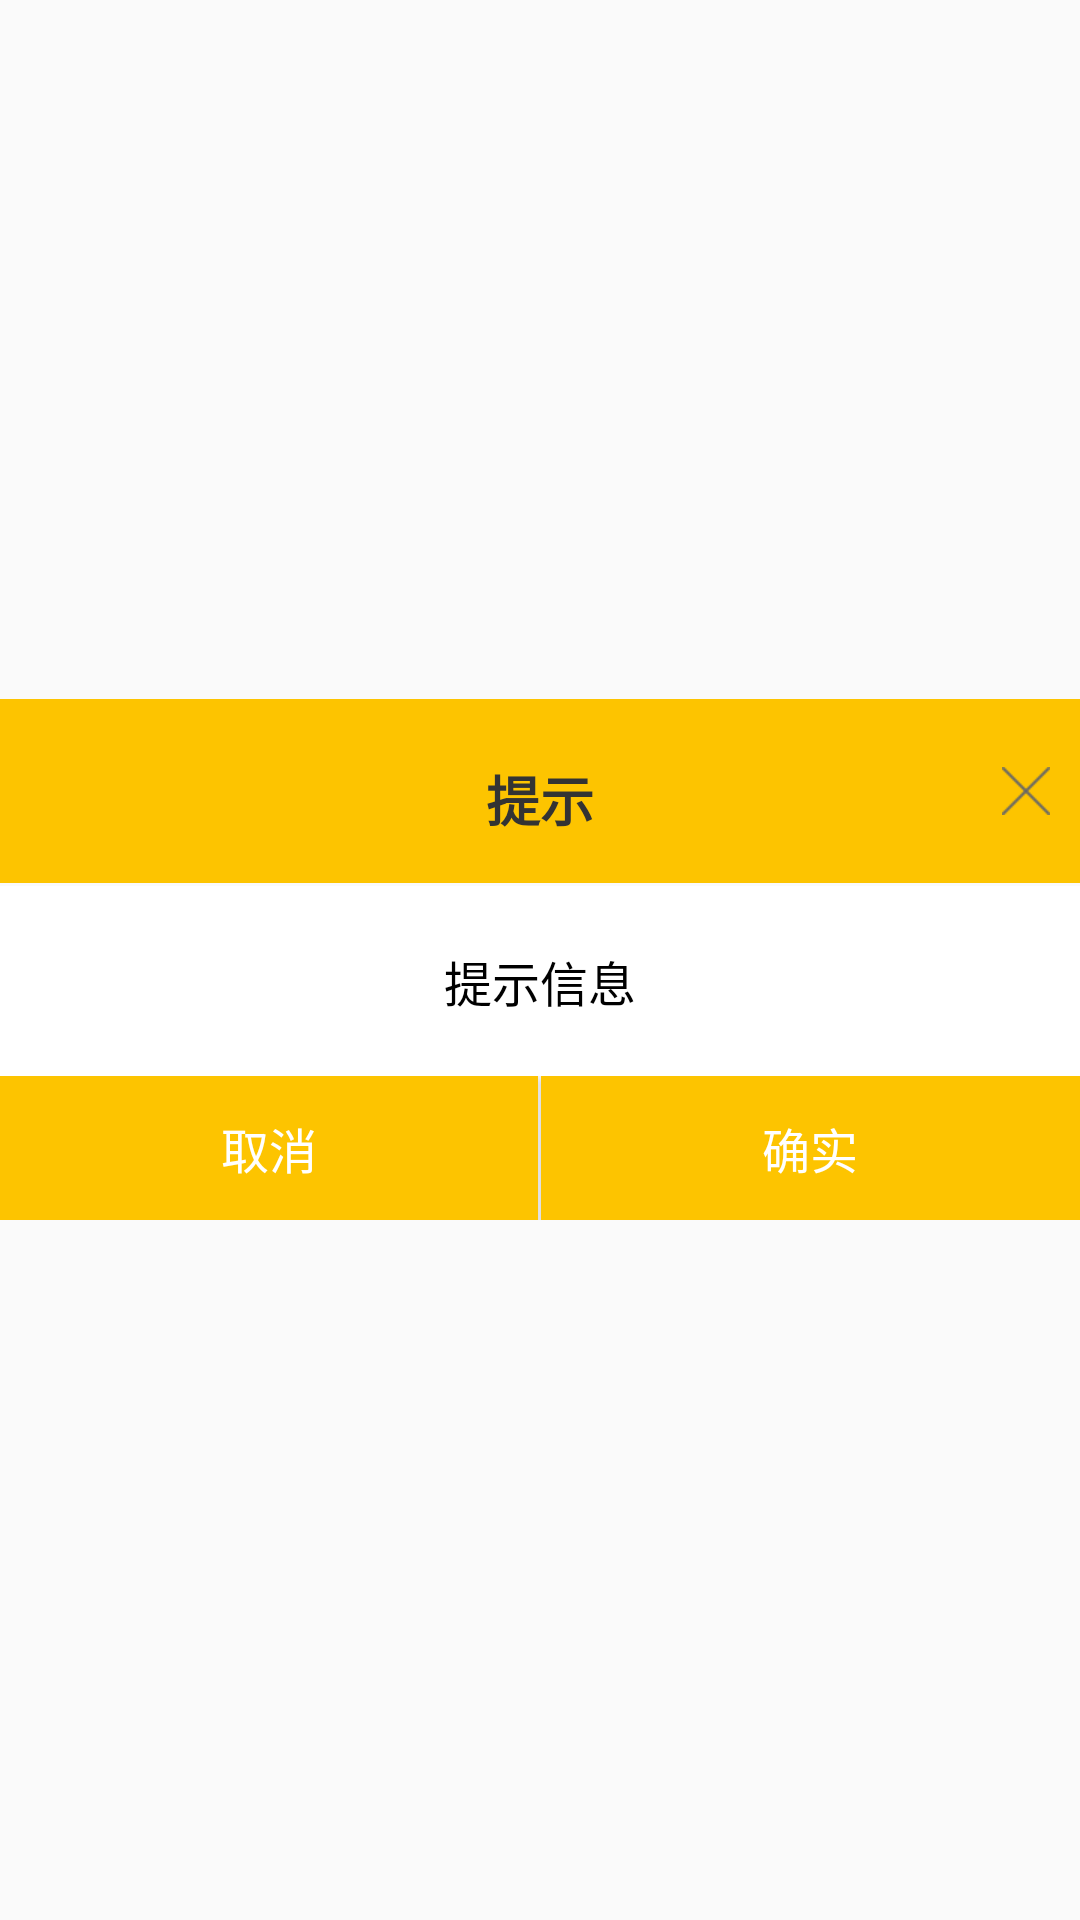

Point at icon controls on the screen. Image size 1080px×1920px, points as (x,y).
close: (1026,791)
